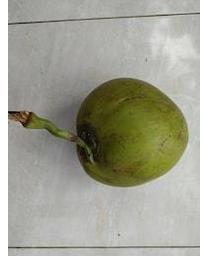coconut: (70, 75, 189, 189)
